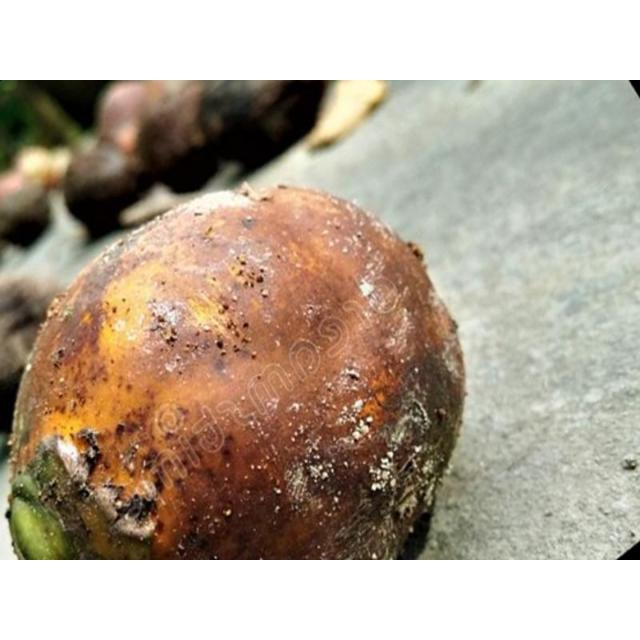damaged: (6, 185, 469, 559)
